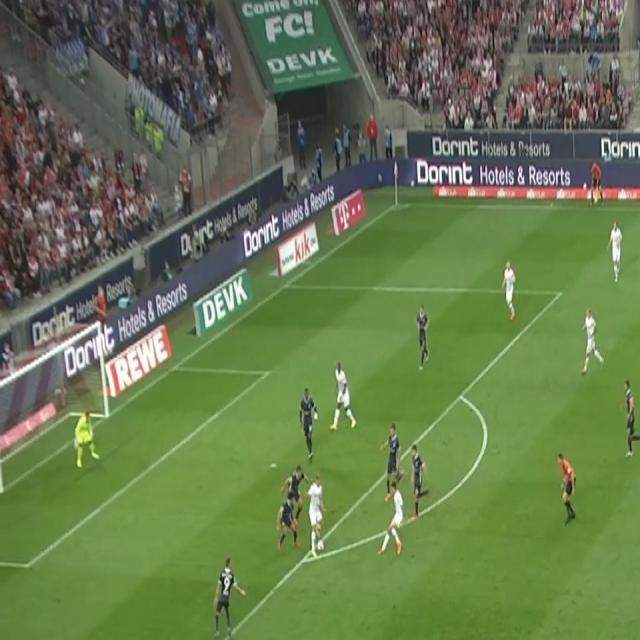ball: (317, 538, 325, 553)
